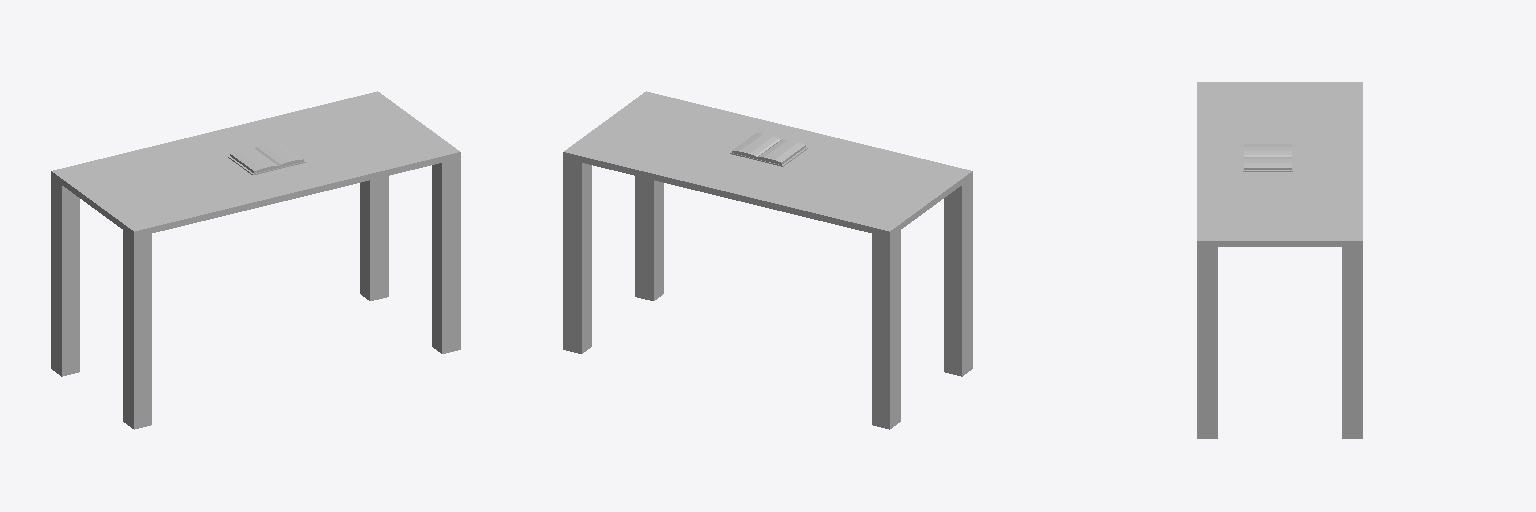
File: Nauka2.obj
The picture shows the model from 3 angles: view 1: azimuth 30°, elevation 25°; view 2: azimuth 150°, elevation 25°; view 3: azimuth 270°, elevation 25°; orthographic projection.
Parts seen in each view (by area): view 1: Stol+Ksi_Cube.010; view 2: Stol+Ksi_Cube.010; view 3: Stol+Ksi_Cube.010.
Boxes of the visible parts, <box> form: Stol+Ksi_Cube.010: <box>51,91,460,429</box>; Stol+Ksi_Cube.010: <box>563,91,972,429</box>; Stol+Ksi_Cube.010: <box>1197,82,1362,438</box>.
Bounding box in the file's own units: 2.74 × 1.66 × 1.2.